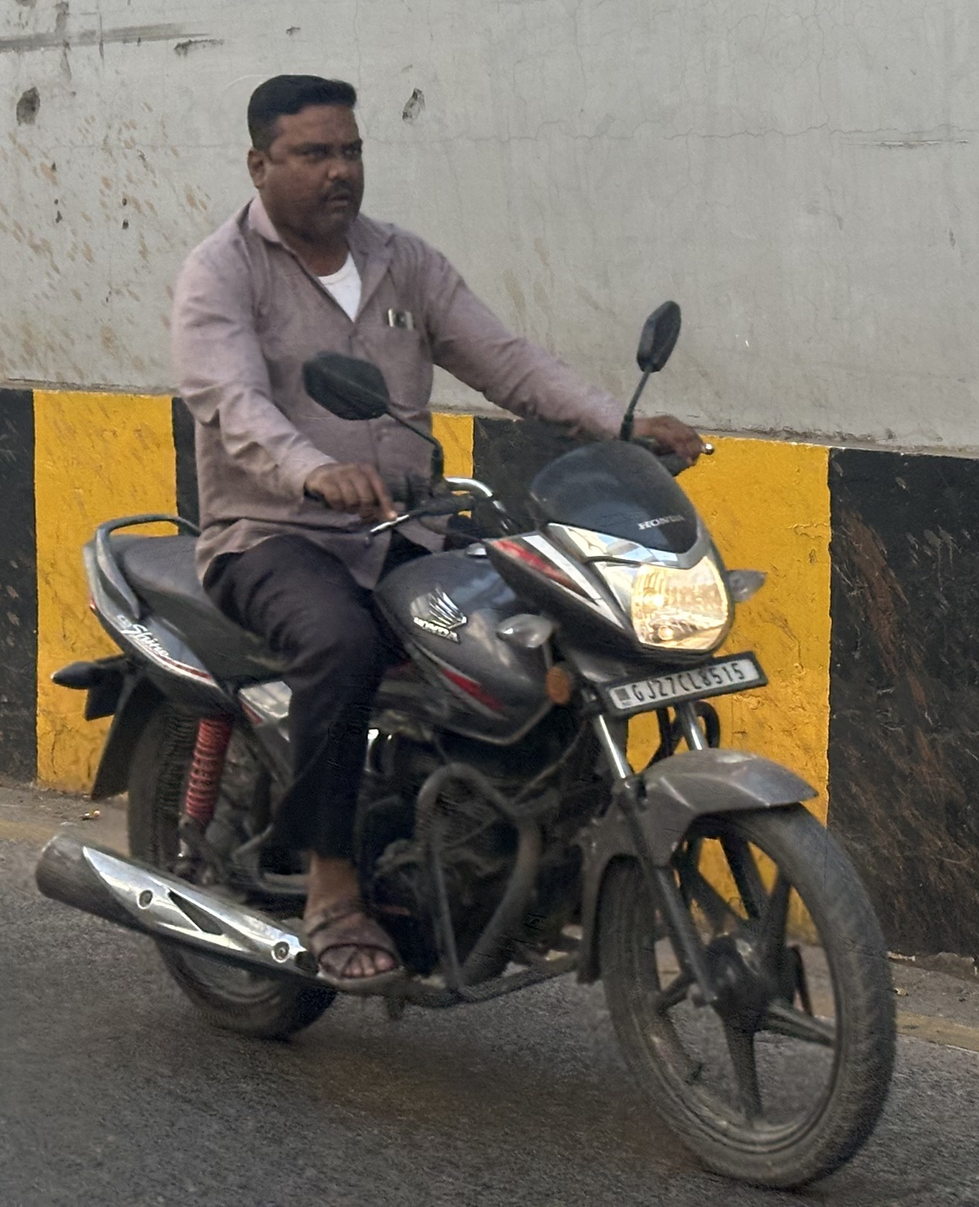BikeWithRider: (23, 64, 916, 1197)
NoHelmet: (225, 64, 390, 245)
